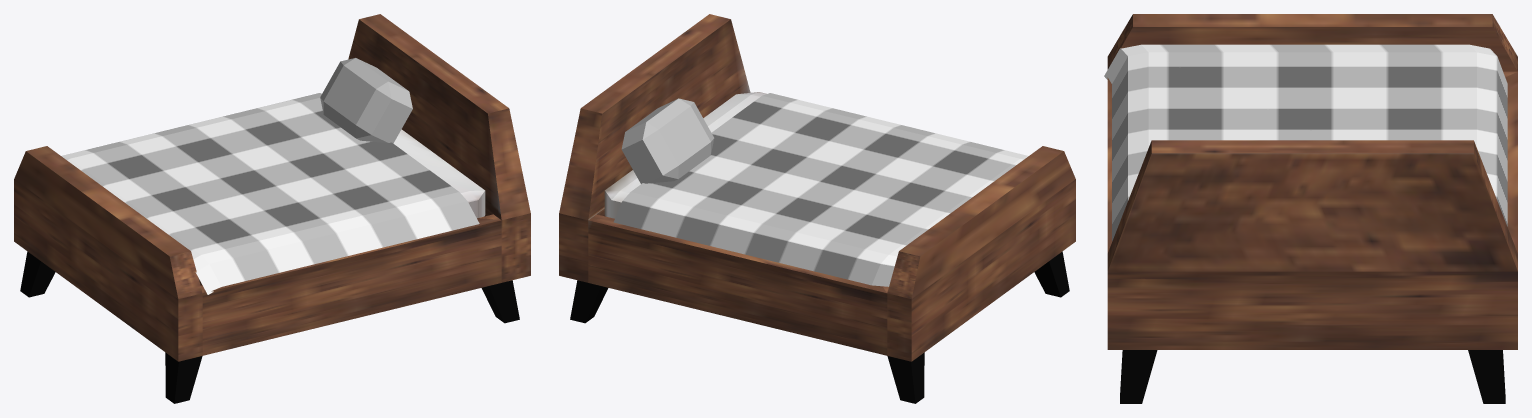
The model's file is Bed.fbx.
3 views of the same model, side by side, from view 1: azimuth 30°, elevation 25°; view 2: azimuth 150°, elevation 25°; view 3: azimuth 270°, elevation 25° (orthographic). The views are drawn at different scales.
Visible parts, largest first — view 1: BedFrame, Conformter, Pillow, Matress; view 2: BedFrame, Conformter, Pillow, Matress; view 3: BedFrame, Conformter.
Boxes of the visible parts, bbox=[...] form: BedFrame: bbox=[14, 14, 530, 403]; Conformter: bbox=[61, 93, 479, 294]; Pillow: bbox=[320, 58, 412, 143]; Matress: bbox=[198, 129, 485, 285]; BedFrame: bbox=[559, 14, 1075, 403]; Conformter: bbox=[613, 93, 1028, 286]; Pillow: bbox=[621, 98, 714, 183]; Matress: bbox=[604, 92, 766, 218]; BedFrame: bbox=[1107, 14, 1517, 403]; Conformter: bbox=[1104, 44, 1507, 240].
Bounding box in the file's own units: 236 × 129 × 192.
